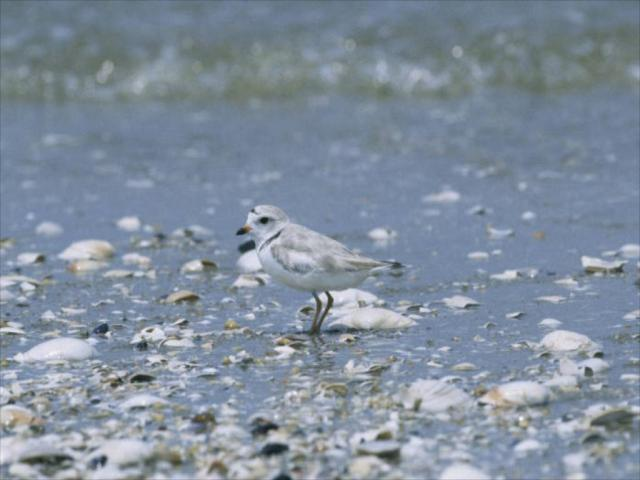Bird: (235, 204, 415, 333)
